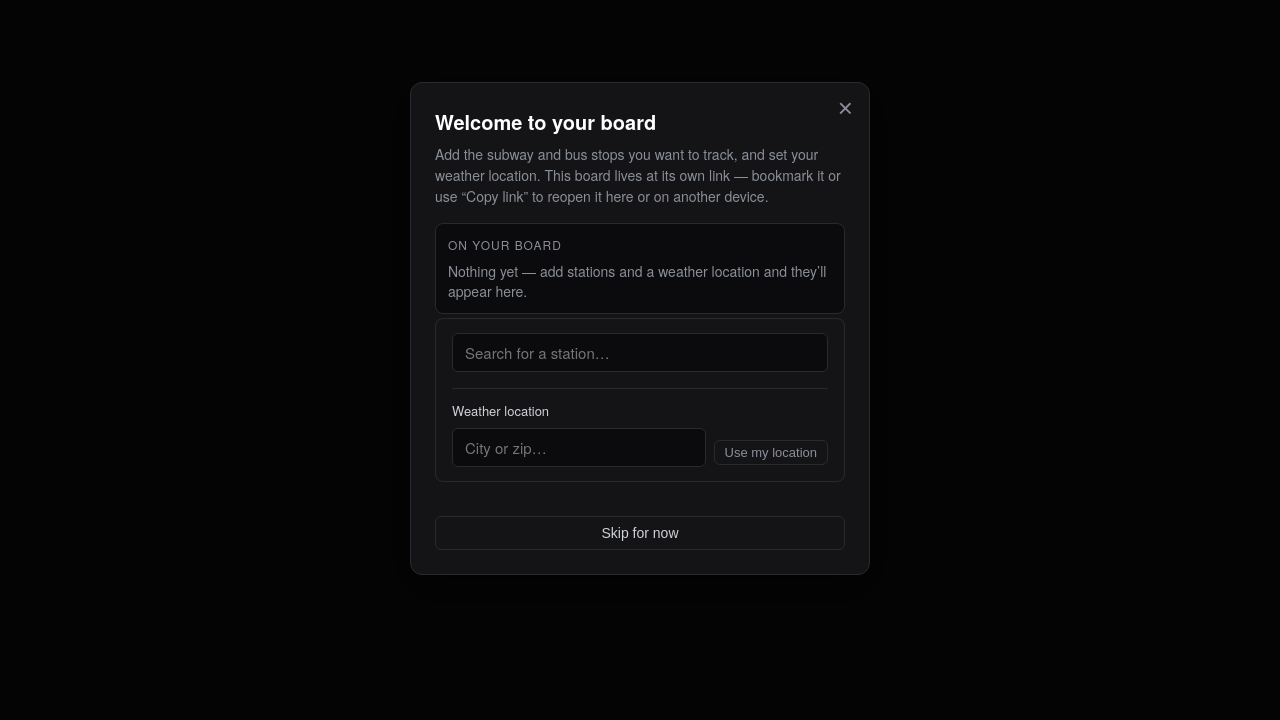
components › WelcomeModal disables its big Done button while the nearby-bus checklist is open
The image size is (1280, 720).
Expected: the button "Skip for now" is enabled, [435,516,845,550]
Type "times" into the field with placeholder "Search for a station…".
click(640, 352); type("times")  # box [452,333,828,372]
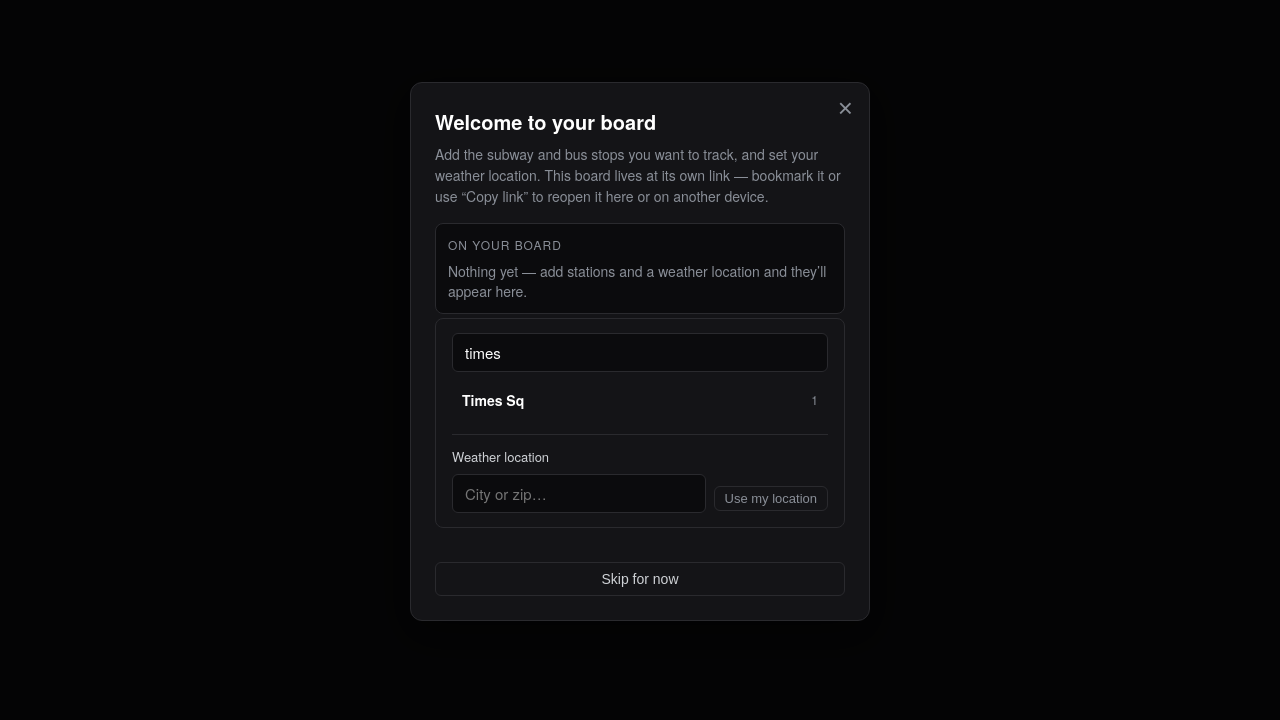
Click the text "Times Sq".
click(493, 400)  # box [462,390,524,410]
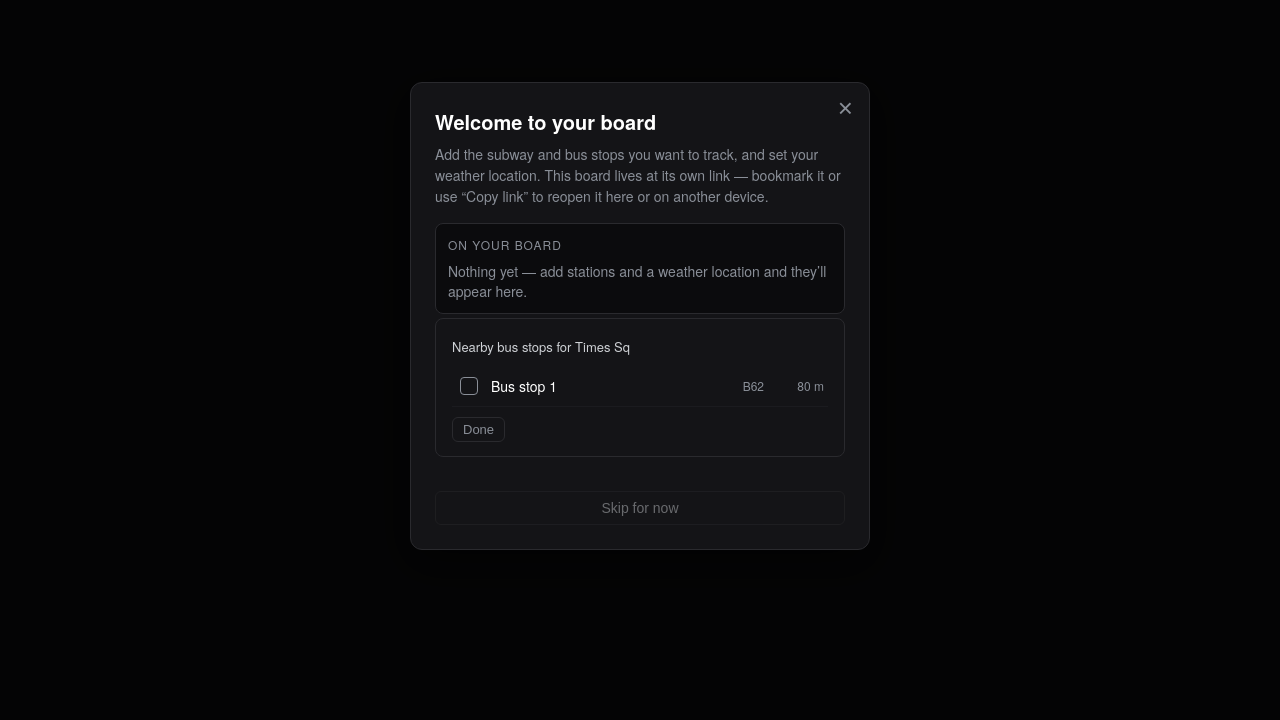
Expected: the text "Nearby bus stops for Times Sq" is shown, [452,337,630,356]
Expected: the button "Skip for now" is disabled, [435,491,845,525]
Click the button "Done".
click(479, 429)  # box [452,417,505,442]
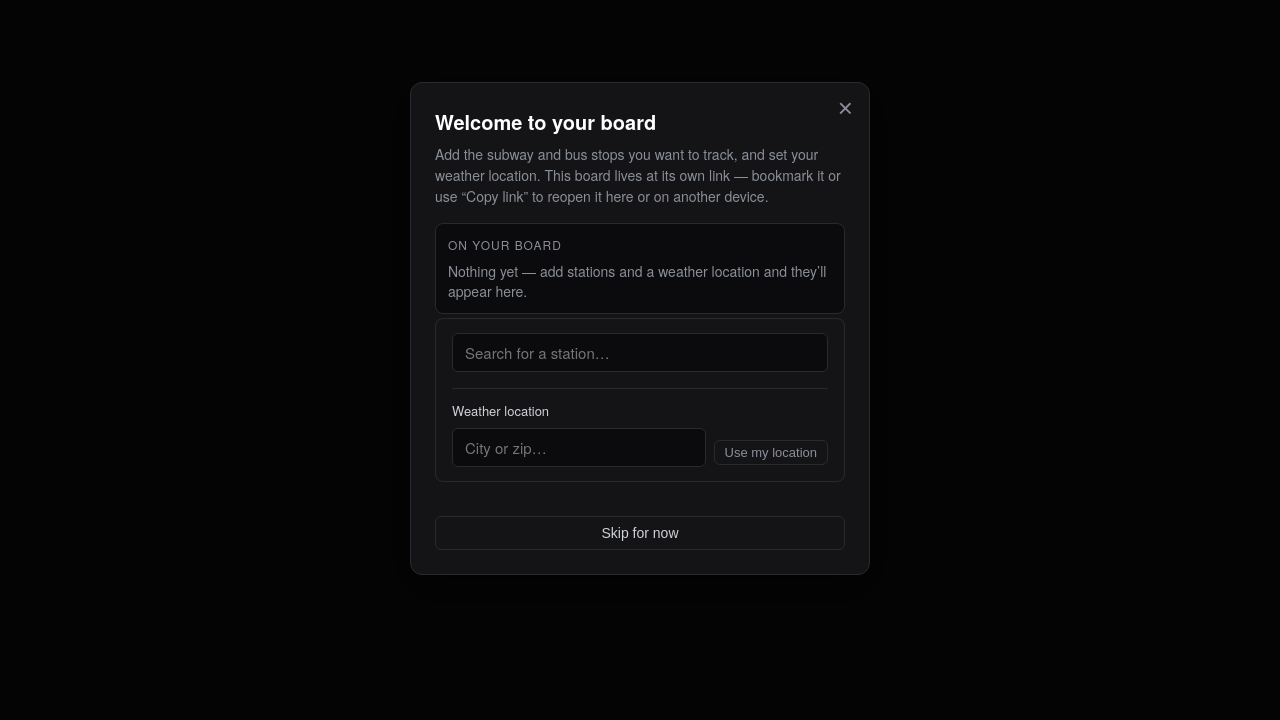
Expected: the button "Skip for now" is enabled, [435,516,845,550]
